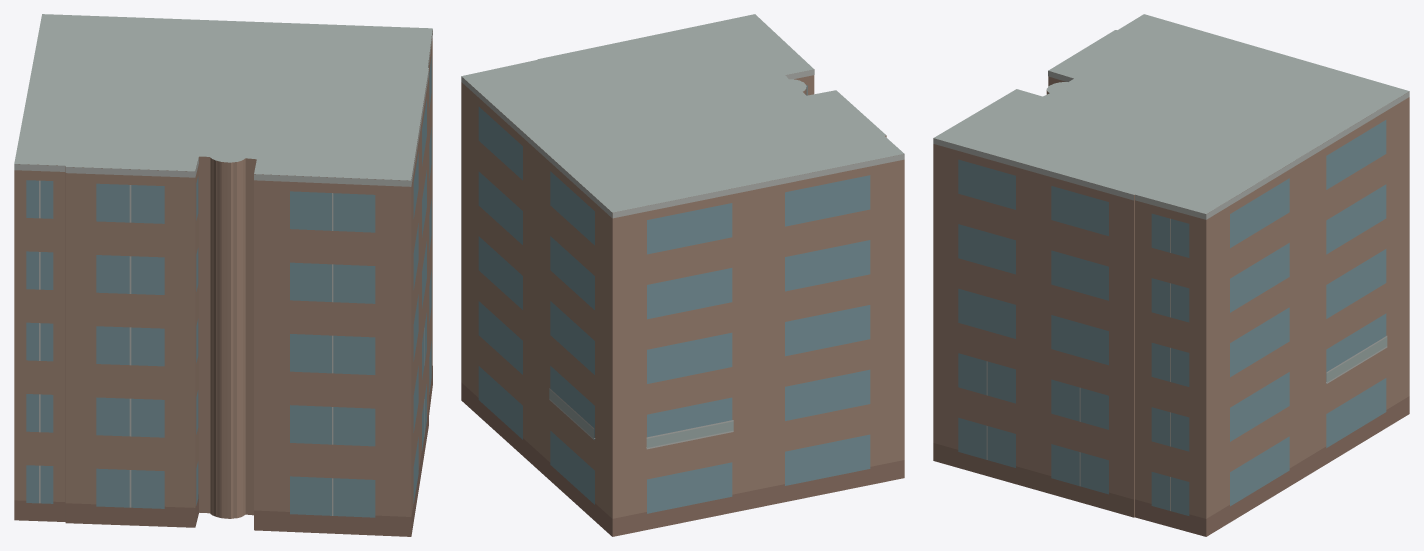
File: survey-upis-32814827.glb
3 views of the same model, side by side, from view 1: azimuth 30°, elevation 25°; view 2: azimuth 150°, elevation 25°; view 3: azimuth 270°, elevation 25° (orthographic). The views are drawn at different scales.
Visible parts, largest first — view 1: survey-upis-32814827.tmp; view 2: survey-upis-32814827.tmp; view 3: survey-upis-32814827.tmp.
Boxes of the visible parts, x1,y1,x2,y2 form: survey-upis-32814827.tmp: [14, 14, 432, 536]; survey-upis-32814827.tmp: [461, 14, 904, 536]; survey-upis-32814827.tmp: [933, 14, 1409, 536].
Size of the model in its own units: 18.37 by 13.8 by 18.47.
